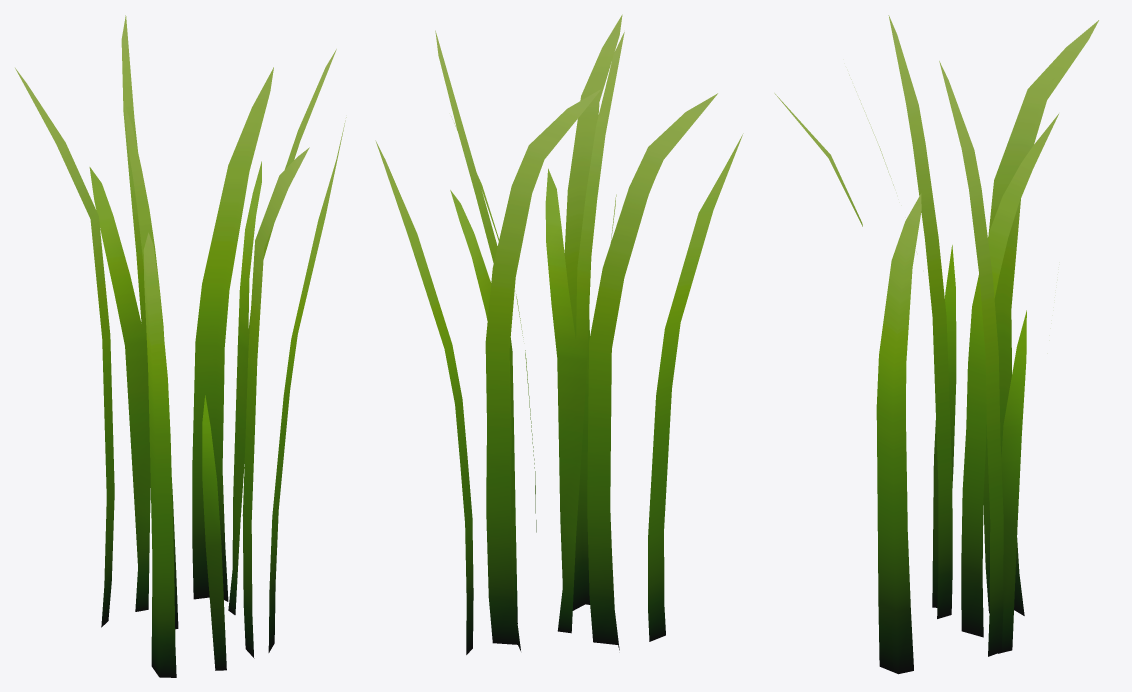
File: tall-grass.glb
3 views of the same model, side by side, from view 1: azimuth 30°, elevation 25°; view 2: azimuth 150°, elevation 25°; view 3: azimuth 270°, elevation 25° (orthographic). The views are drawn at different scales.
Visible parts, largest first — view 1: Grass_Common_Tall; view 2: Grass_Common_Tall; view 3: Grass_Common_Tall.
Part boxes in pixels (bbox=[...]): Grass_Common_Tall: bbox=[15, 15, 346, 677]; Grass_Common_Tall: bbox=[375, 14, 743, 654]; Grass_Common_Tall: bbox=[774, 15, 1098, 674].
Bounding box in the file's own units: 0.8951 × 1.87 × 0.9932.
Materials: 1 (1 with a texture image).
